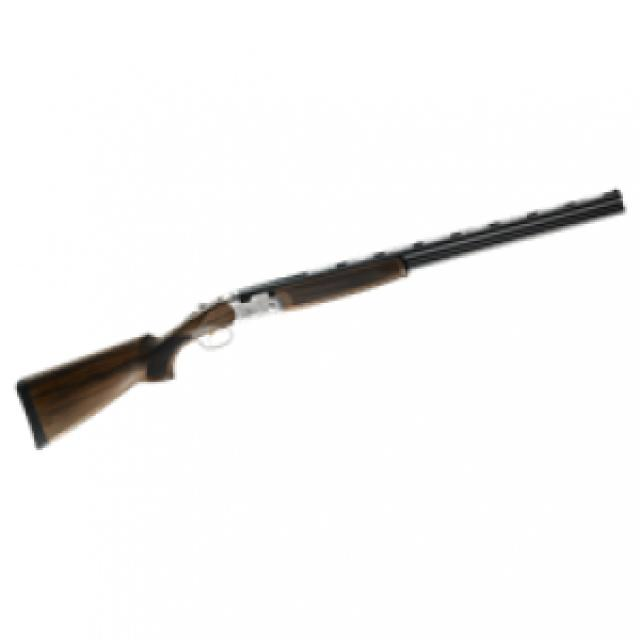rifle: (8, 180, 636, 478)
